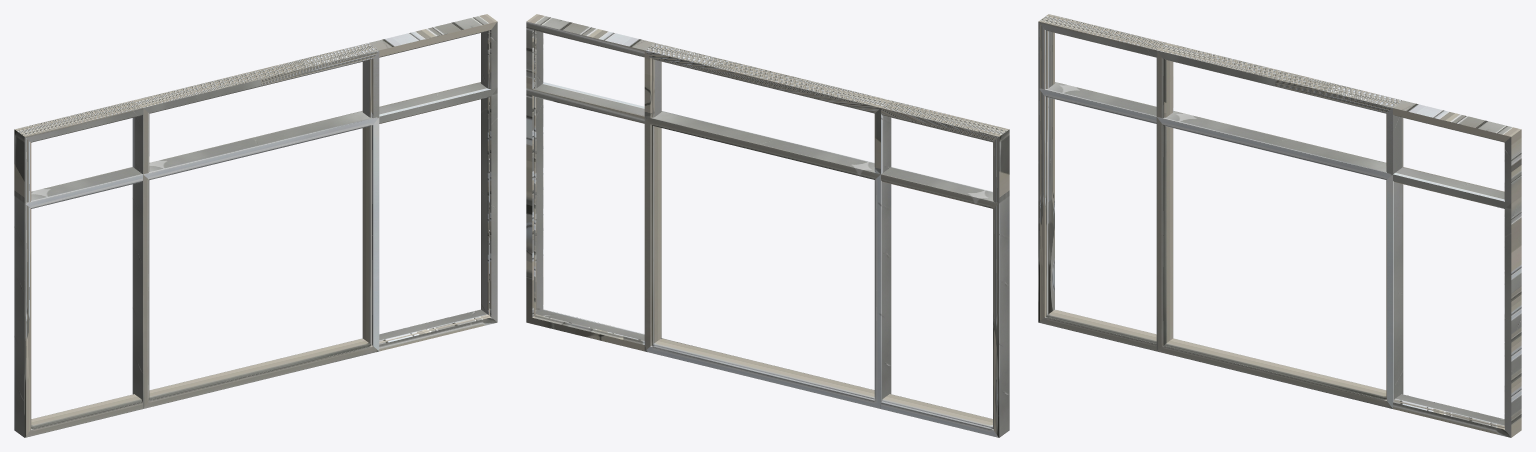
The model's file is WindowFrame.fbx.
3 views of the same model, side by side, from view 1: azimuth 30°, elevation 25°; view 2: azimuth 150°, elevation 25°; view 3: azimuth 330°, elevation 25° (orthographic).
Visible parts, largest first — view 1: WindowFrame; view 2: WindowFrame; view 3: WindowFrame.
Boxes of the visible parts, <box> form: WindowFrame: <box>14,14,497,437</box>; WindowFrame: <box>526,14,1009,437</box>; WindowFrame: <box>1038,14,1521,437</box>.
Bounding box in the file's own units: 287 × 175 × 10.8.
1 material, 1 textured.
